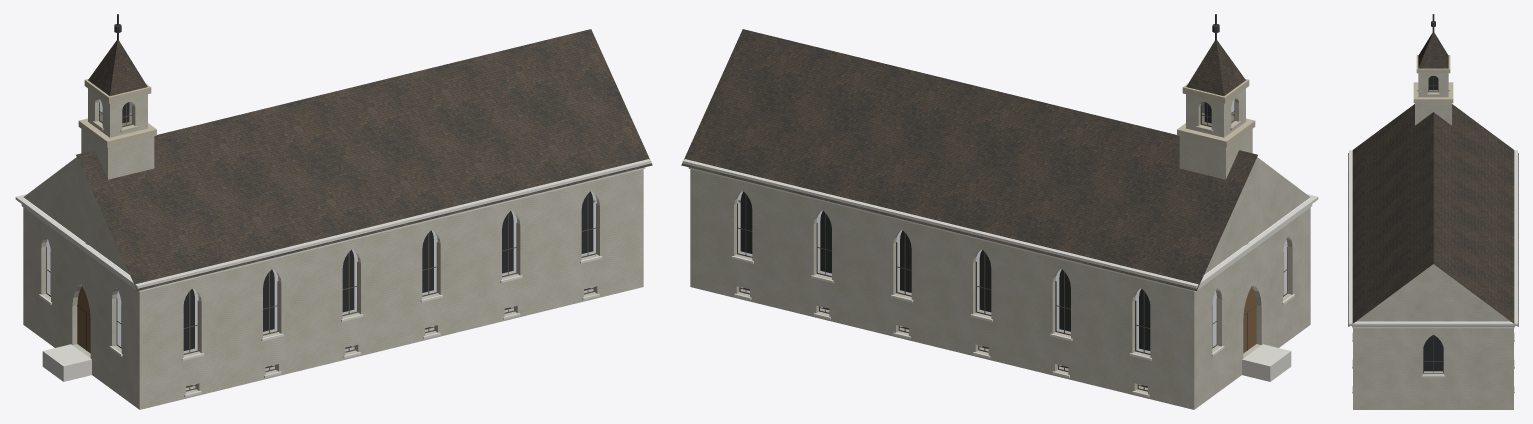
Rendered from st_pauls_church_1871__church_1868_1871.glb.
The picture shows the model from 3 angles, left to right: view 1: azimuth 30°, elevation 25°; view 2: azimuth 150°, elevation 25°; view 3: azimuth 270°, elevation 25°; orthographic projection. The views are drawn at different scales.
Visible parts, largest first — view 1: st_pauls_church_1871__church_1868_1871; view 2: st_pauls_church_1871__church_1868_1871; view 3: st_pauls_church_1871__church_1868_1871.
Boxes of the visible parts, x1,y1,x2,y2 form: st_pauls_church_1871__church_1868_1871: (15,14,652,409); st_pauls_church_1871__church_1868_1871: (681,14,1318,409); st_pauls_church_1871__church_1868_1871: (1348,14,1518,409).
Size of the model in its own units: 32.57 by 19.9 by 12.9.
9 materials, 3 textured.
